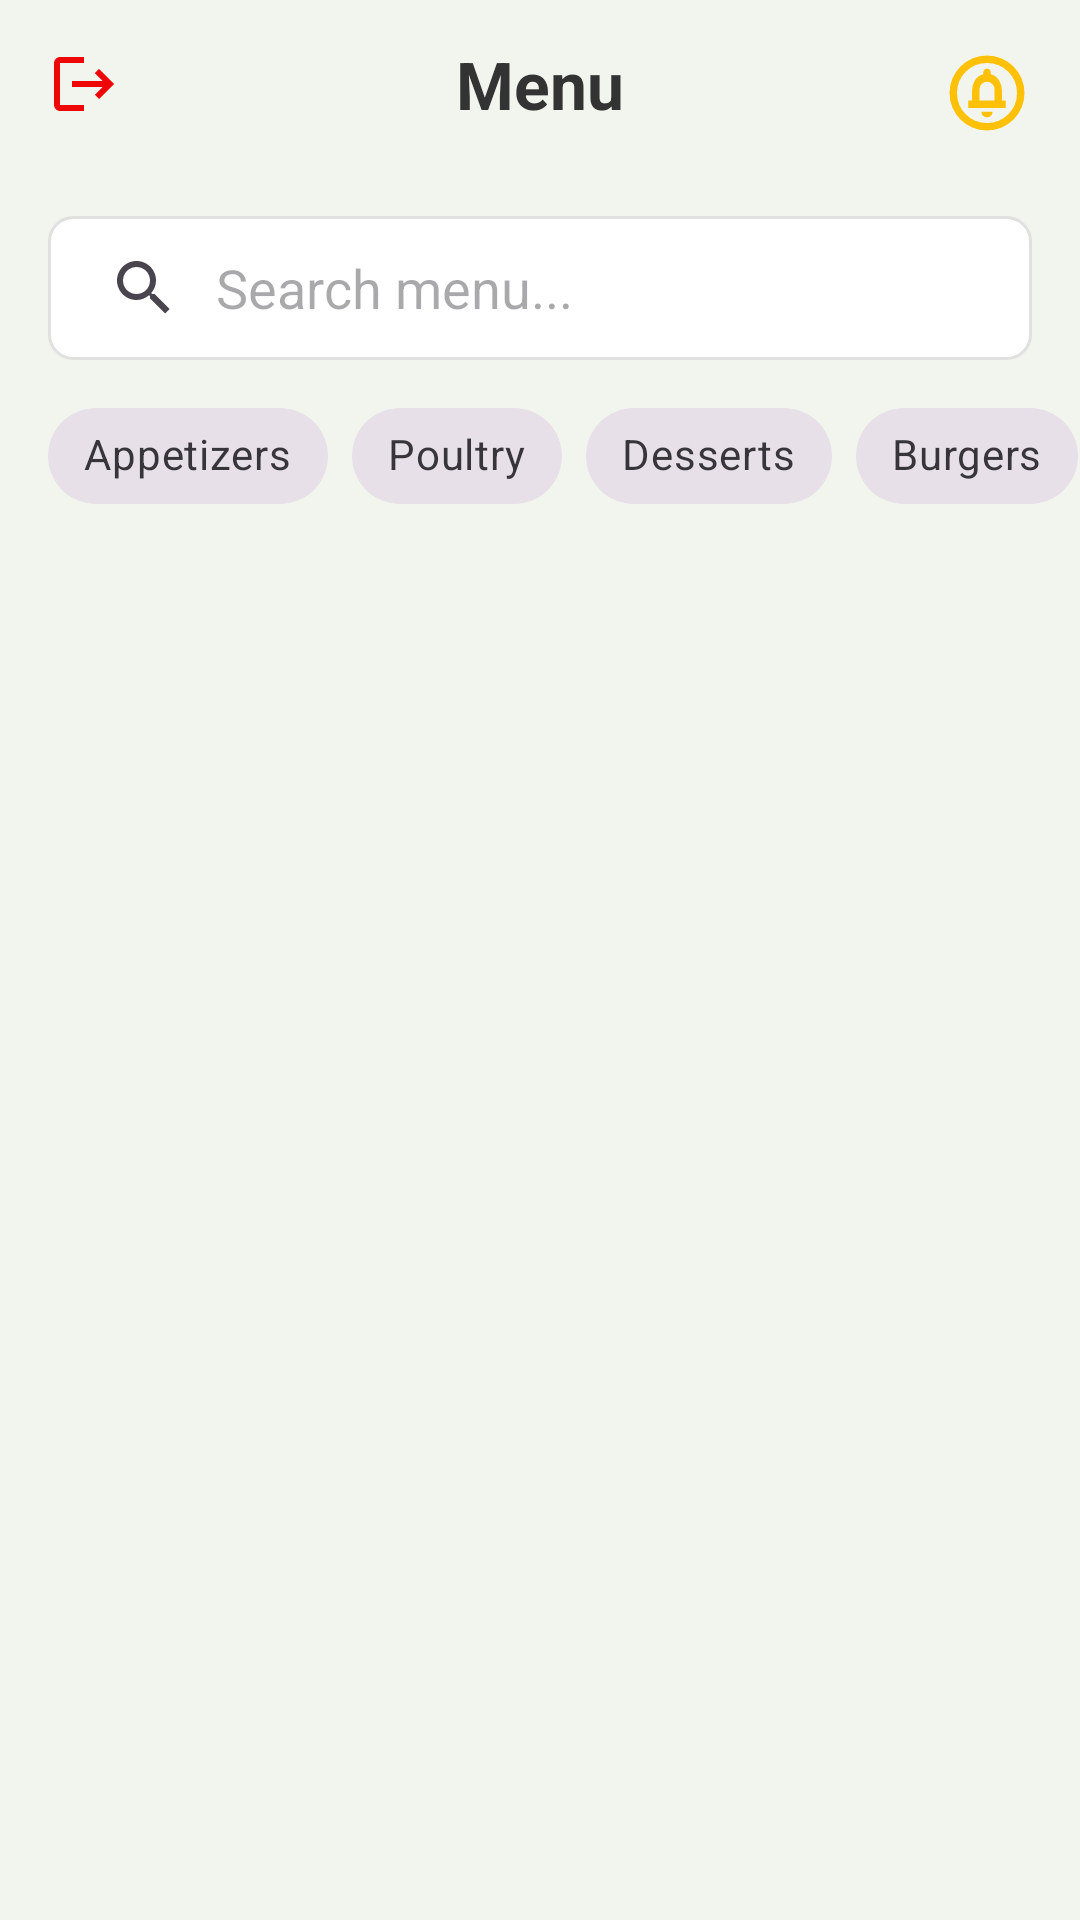

Icons on this 1080px x 1920px Android screen, each with its box as bbox=(x1, y1, x2, y2):
Notifications: bbox=(949, 55, 1025, 131)
